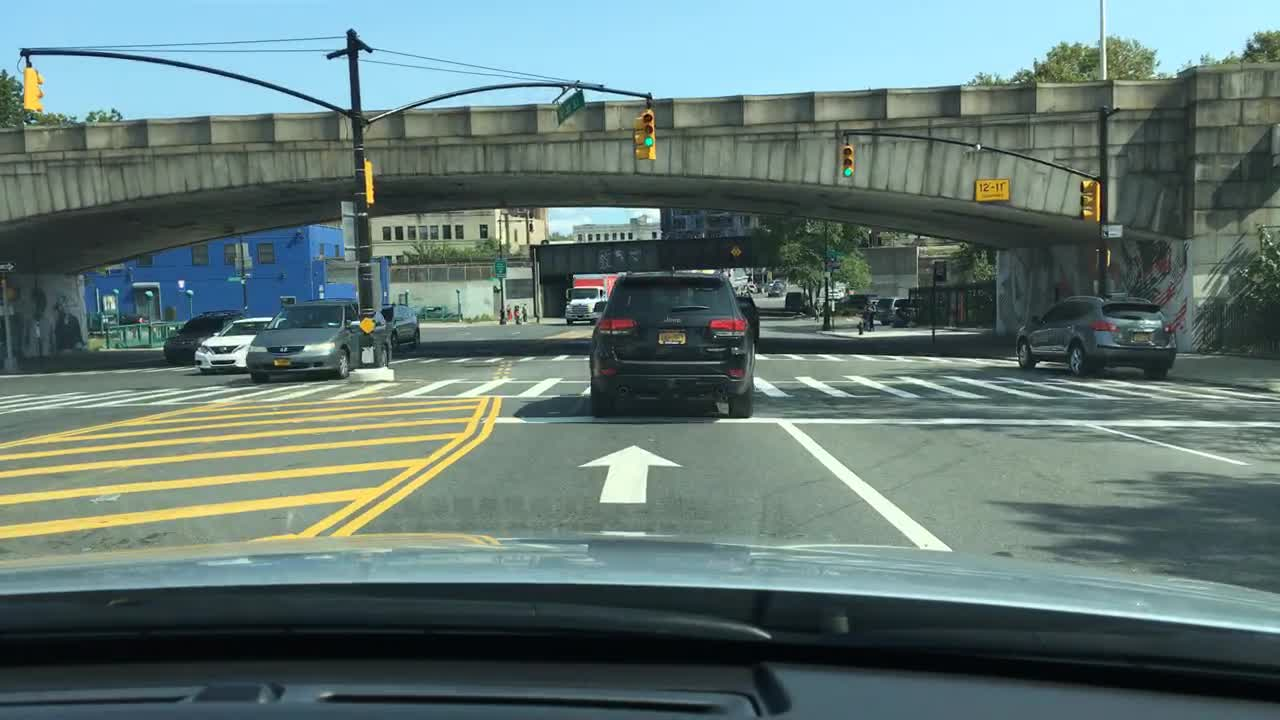car: (590, 269, 754, 419), (1014, 293, 1178, 379), (246, 298, 362, 383), (194, 314, 274, 375), (162, 309, 243, 364), (353, 307, 392, 367), (379, 303, 421, 351), (734, 293, 761, 352), (893, 296, 920, 328), (871, 296, 896, 325), (785, 291, 810, 310), (416, 303, 444, 317), (118, 312, 148, 324), (766, 281, 785, 299), (746, 282, 758, 293)
person: (861, 298, 875, 331), (813, 296, 820, 323), (514, 303, 521, 325), (505, 302, 512, 322), (522, 302, 528, 323)
traffic light: (22, 66, 44, 112), (1079, 179, 1101, 224), (642, 107, 655, 159), (632, 115, 645, 160), (364, 159, 373, 206), (843, 143, 855, 177), (1095, 247, 1111, 270), (6, 287, 18, 301)
traffic sign: (340, 198, 357, 262), (974, 176, 1012, 203), (555, 91, 586, 124), (1103, 225, 1124, 239), (0, 260, 18, 274), (494, 260, 506, 278), (0, 302, 14, 315), (732, 244, 741, 256)
truck: (565, 272, 621, 325)
